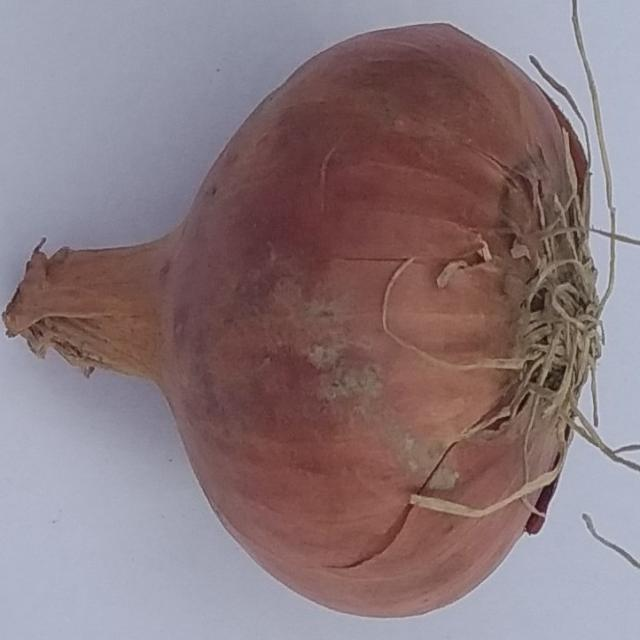onion: (1, 19, 606, 621)
